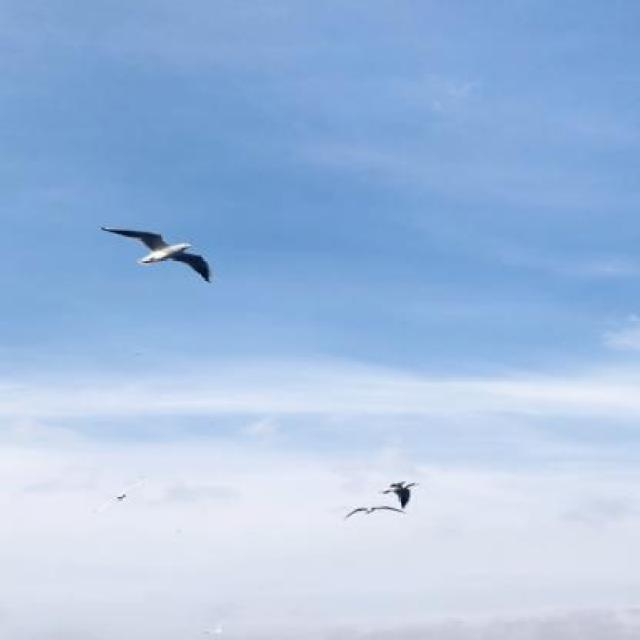bird: (91, 227, 217, 288), (89, 475, 148, 513), (380, 478, 420, 512), (343, 505, 411, 520)
